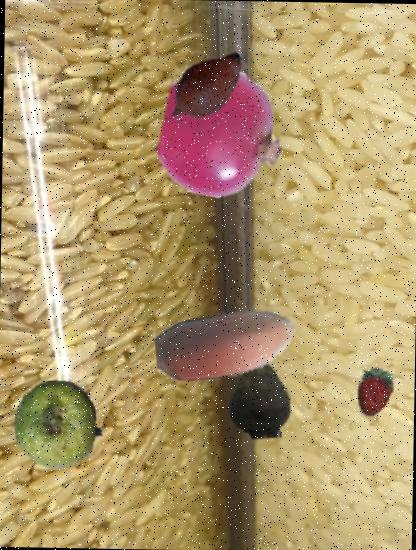Beetroot: (210, 344, 308, 442)
Hazelnut: (153, 273, 301, 421)
Limes: (12, 378, 104, 470)
Redcurrant: (158, 68, 288, 199)
Salak: (158, 39, 254, 134)
Strawberry: (350, 366, 402, 419)
